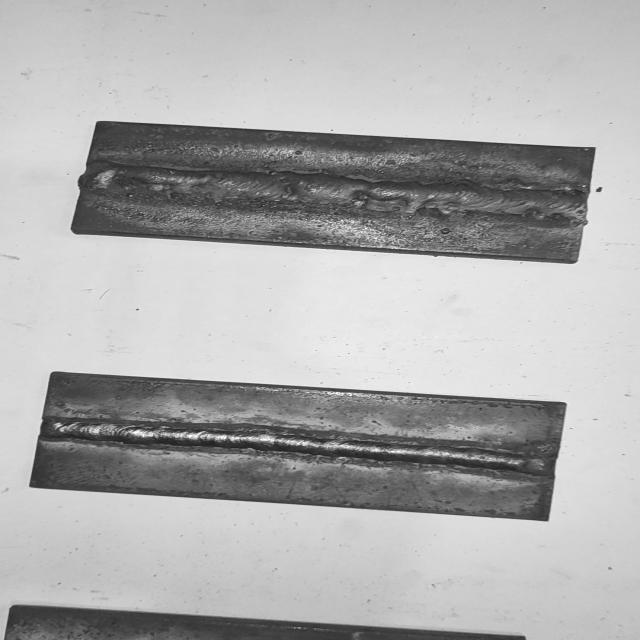Defect: (346, 170, 470, 218)
Welding Line: (39, 418, 552, 478), (90, 162, 588, 218)
Workpiece: (21, 366, 572, 526), (63, 116, 602, 266)
